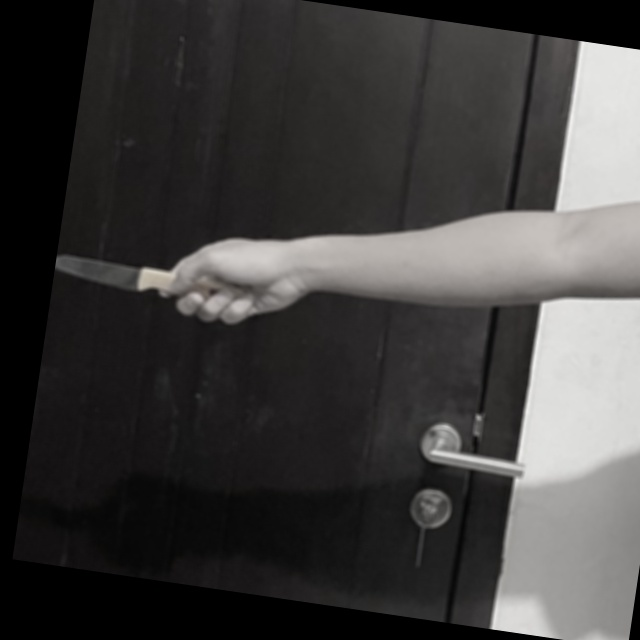Sharp-Object: (54, 251, 260, 312)
